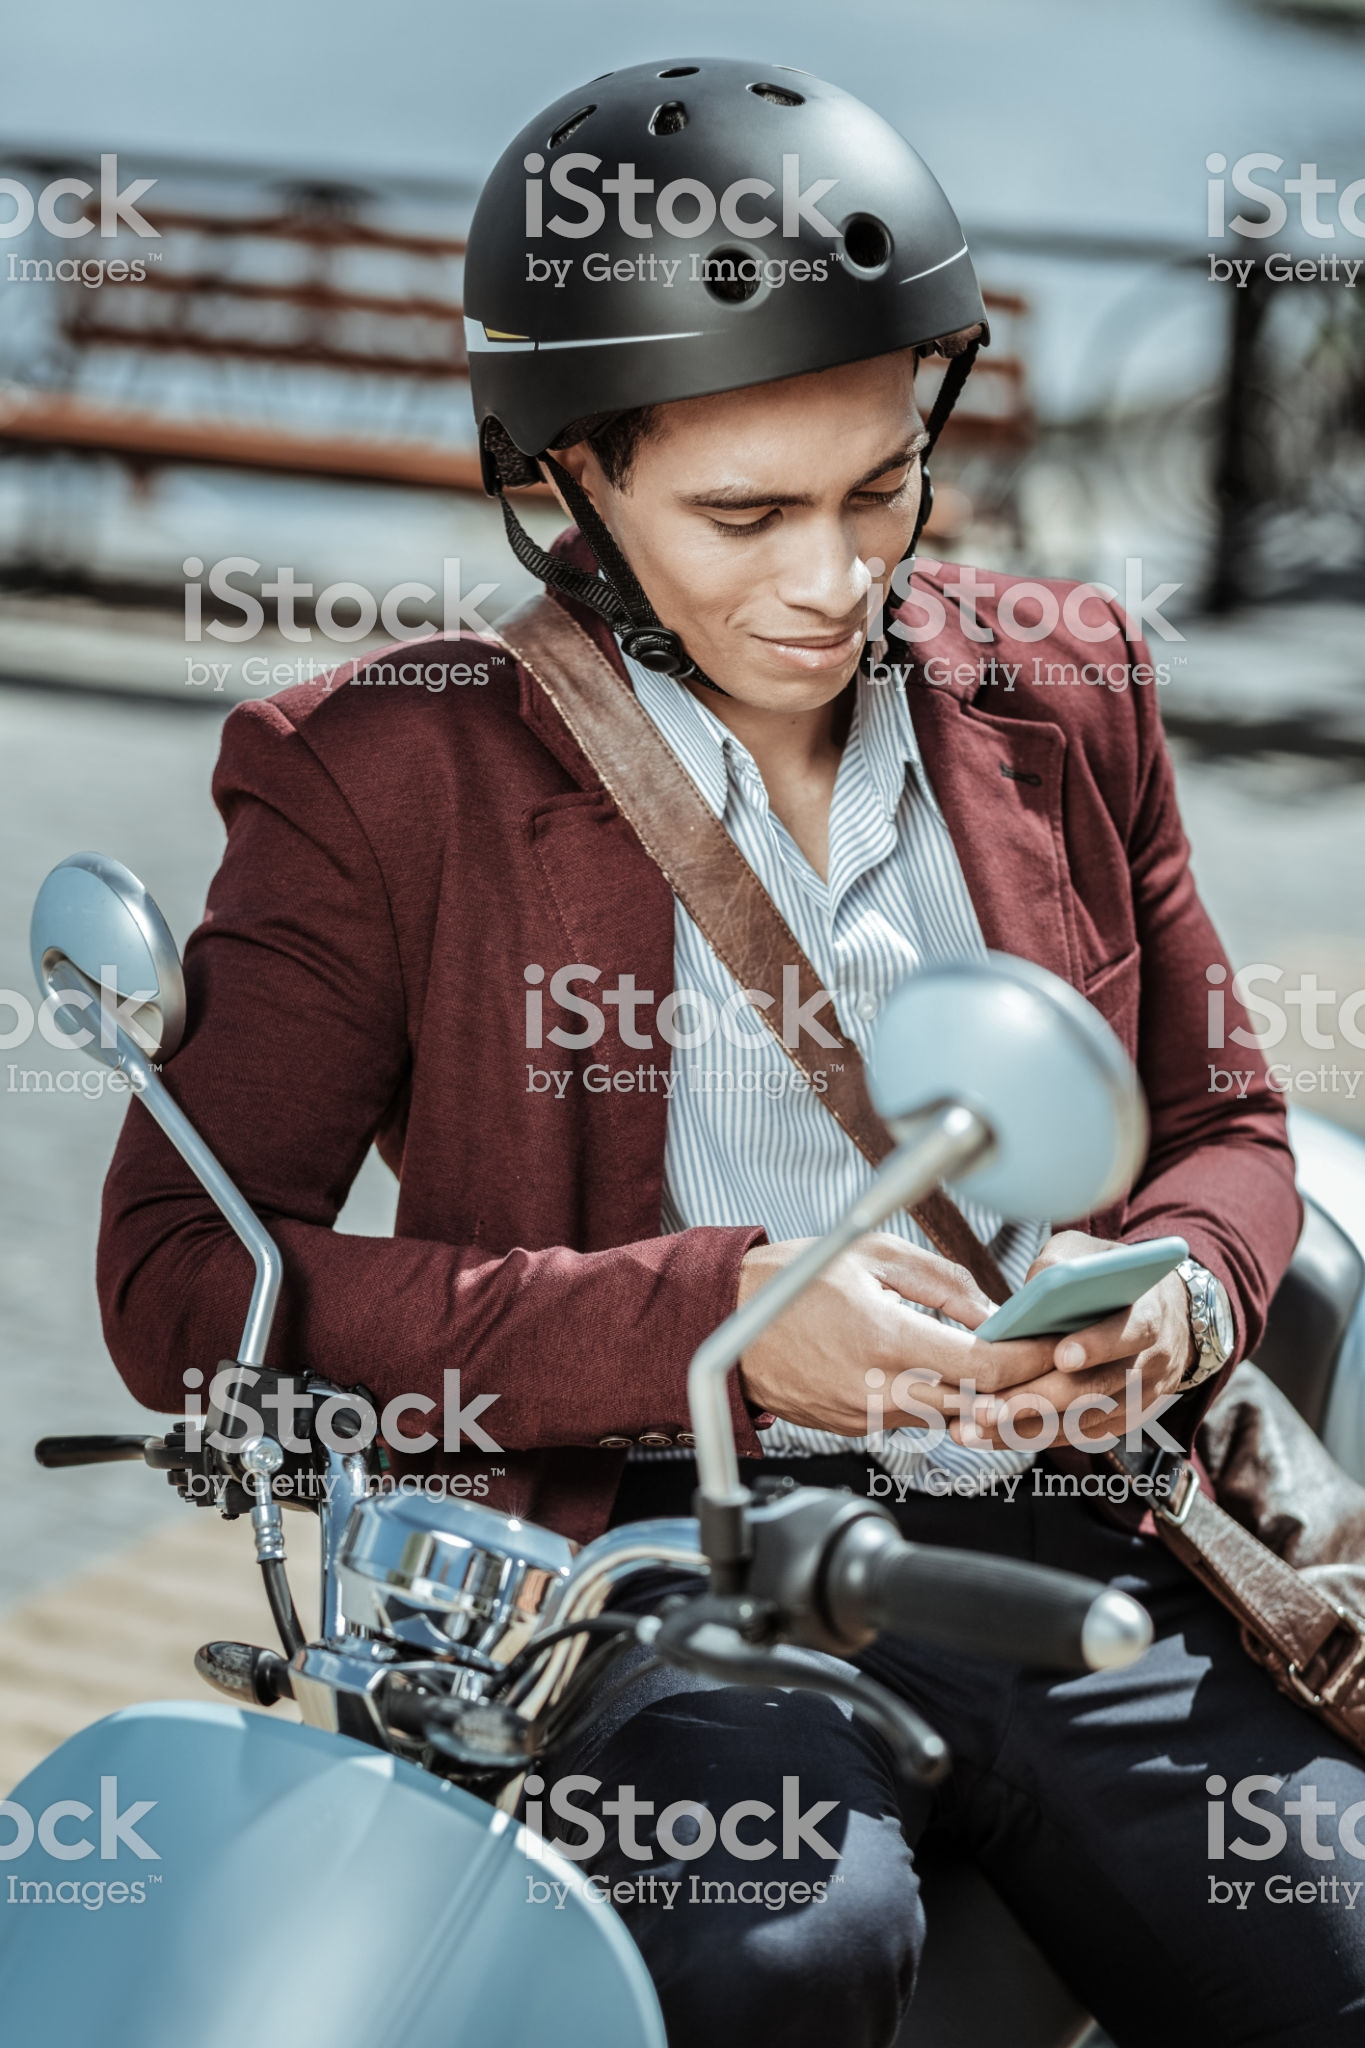helmet: (436, 56, 1021, 365)
